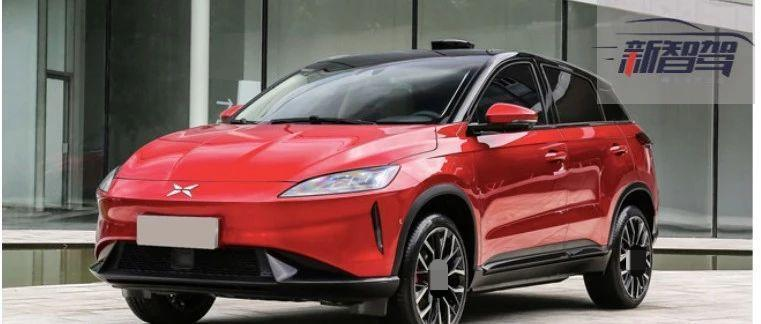XPeng Motors: (168, 184, 198, 197)
